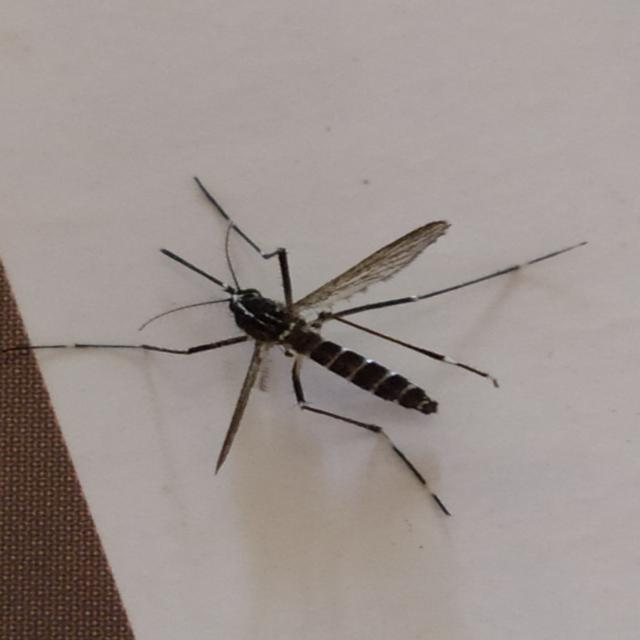albopictus: (39, 172, 555, 530)
